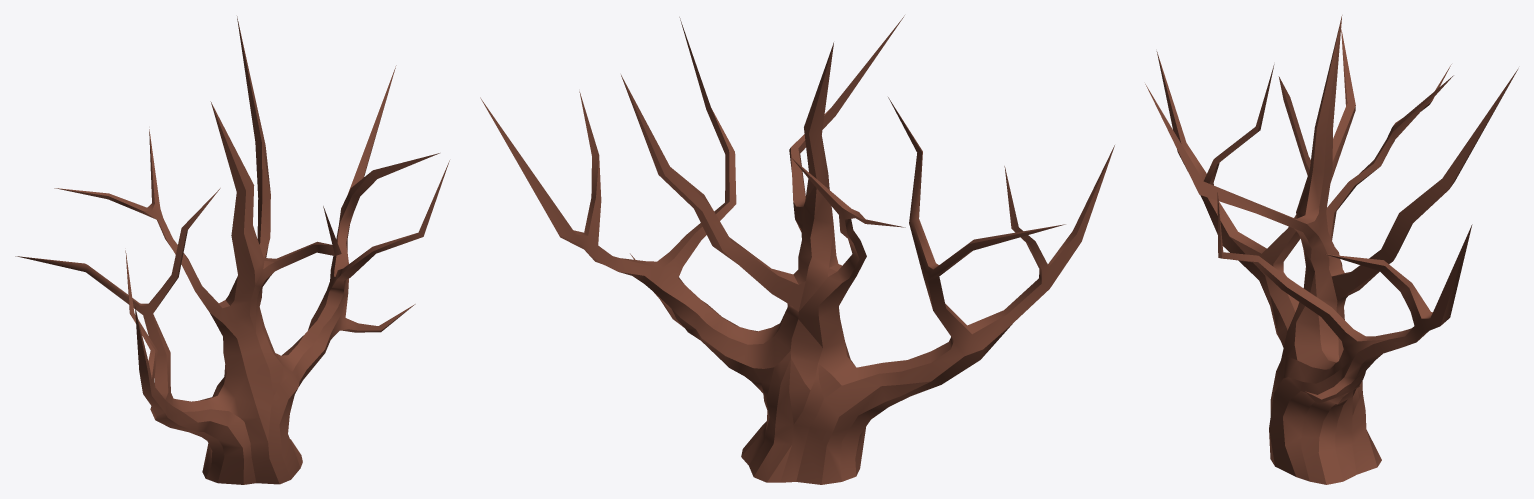
The model's file is FINAL_Tree_Top_3.fbx.
The picture shows the model from 3 angles, left to right: view 1: azimuth 30°, elevation 25°; view 2: azimuth 150°, elevation 25°; view 3: azimuth 270°, elevation 25°; orthographic projection. The views are drawn at different scales.
Visible parts, largest first — view 1: Tree_free_02.001; view 2: Tree_free_02.001; view 3: Tree_free_02.001.
Part boxes in pixels (x1,y1,x2,y2): Tree_free_02.001: (15, 16, 449, 484); Tree_free_02.001: (480, 15, 1114, 484); Tree_free_02.001: (1145, 15, 1518, 484).
Bounding box in the file's own units: 773 × 629 × 499.
